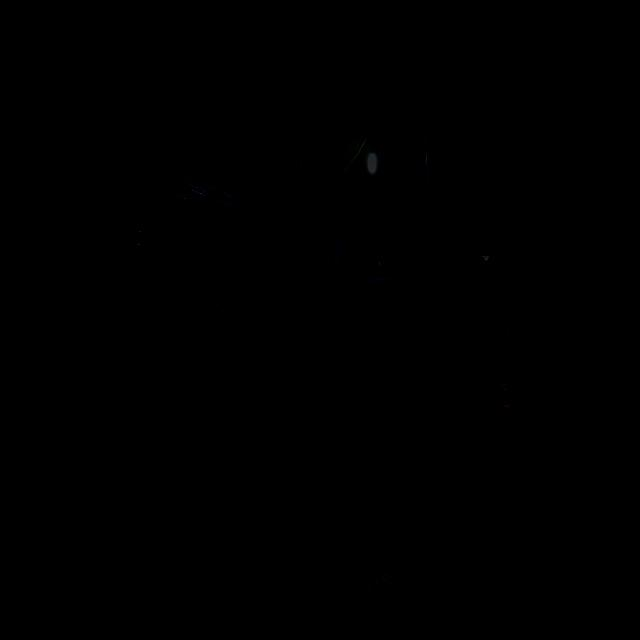Motorbike: (133, 149, 296, 617)
